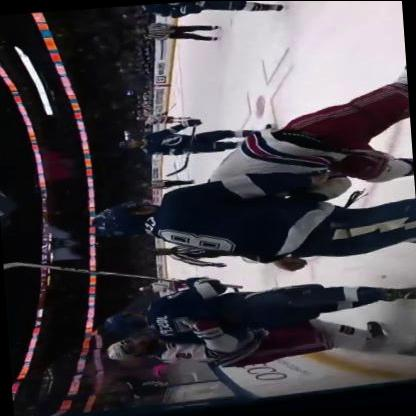non-Voilence: (76, 262, 415, 380), (114, 118, 226, 165), (121, 20, 221, 50)
voilence: (81, 73, 415, 281)
